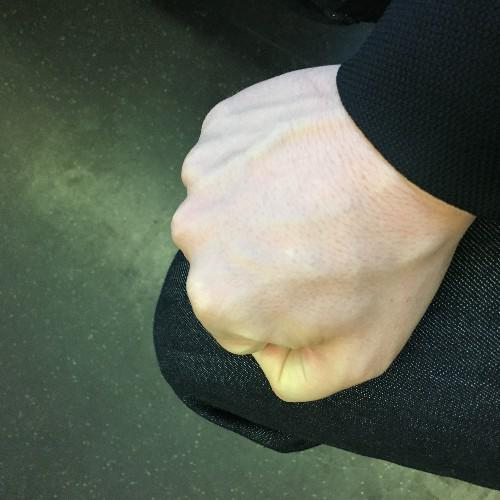rock: (162, 59, 478, 404)
